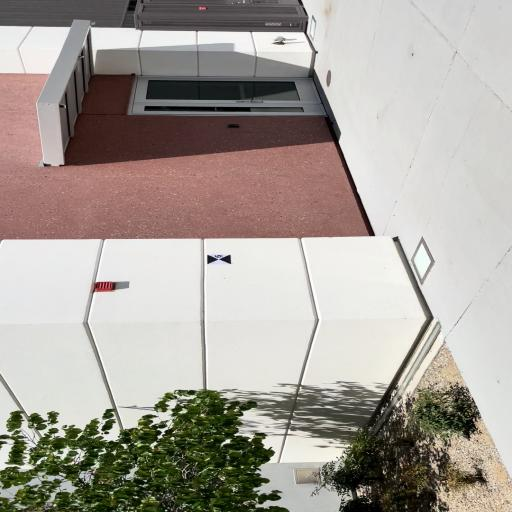target6: (207, 254, 233, 265)
